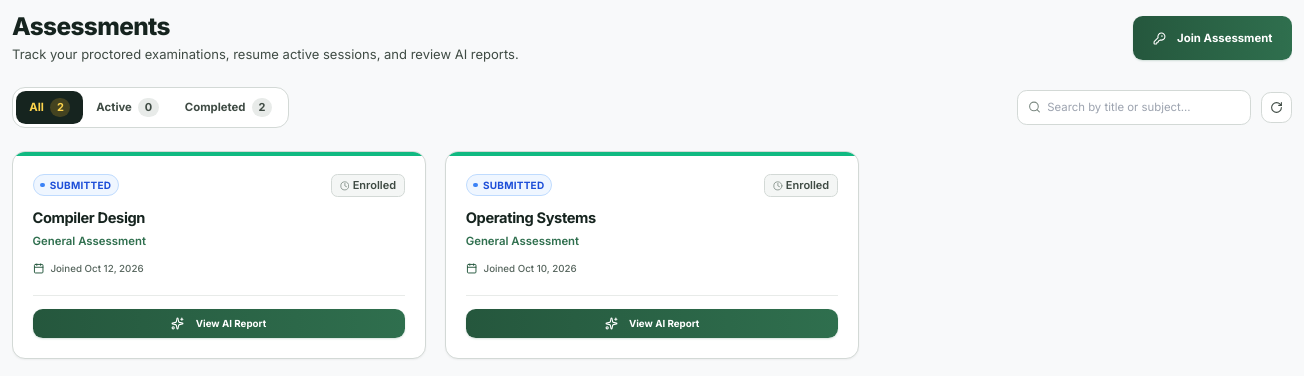
Test case: Batch 1: Comprehensive Candidate Portal Tests › My Assessments Listing & Search Filter › filters assessments by keyword search query
This screenshot has width=1304, height=376.
Expected: the heading "Operating Systems" is shown, [466, 209, 596, 227]
Expected: the heading "Compiler Design" is shown, [32, 209, 145, 227]
# Type in search filter
In the field named "Search assessments": coordinates (1134, 107) [1017, 90, 1251, 124], type "Compiler"
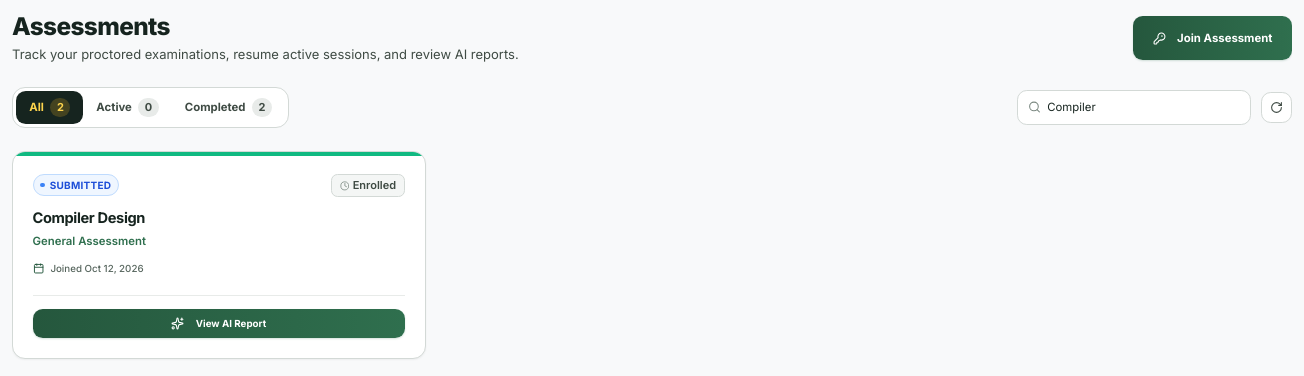
Expected: the heading "Compiler Design" is shown, [32, 209, 145, 227]
Now the heading "Operating Systems" is gone
